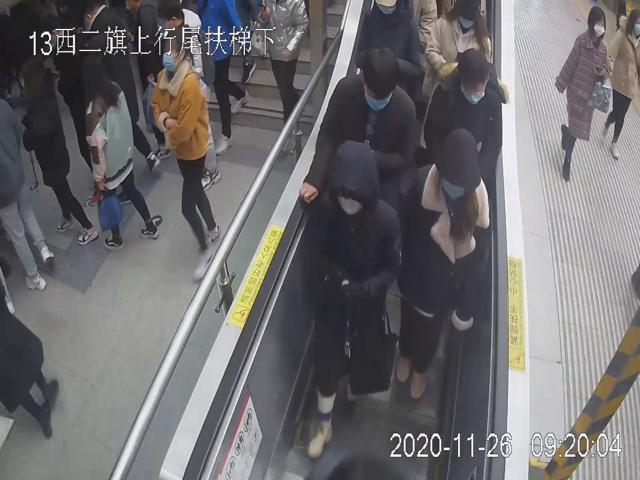person: (302, 137, 398, 459), (393, 126, 492, 399), (295, 40, 419, 206), (153, 31, 222, 284), (422, 46, 503, 185), (555, 4, 611, 186)
